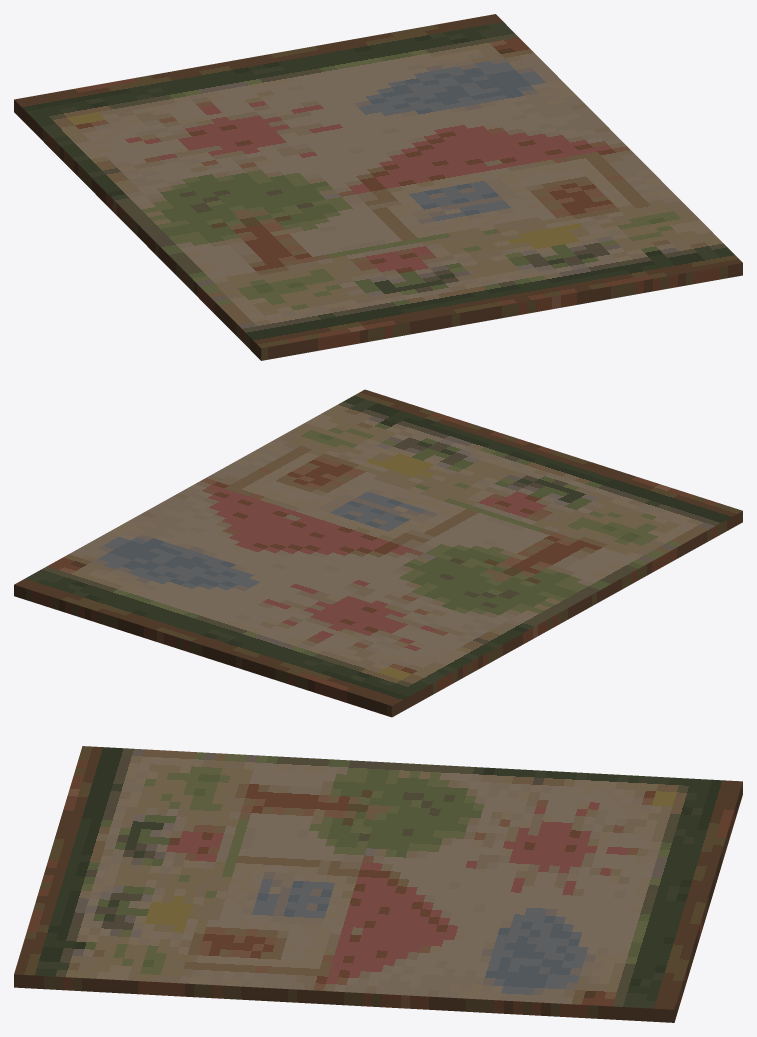
The model's file is prop_drawing_fallen-0.glb.
3 renders of one model, top to bottom at view 1: azimuth 30°, elevation 25°; view 2: azimuth 150°, elevation 25°; view 3: azimuth 270°, elevation 25°, orthographic. The views are drawn at different scales.
Visible parts, largest first — view 1: prop_drawing_fallen-0; view 2: prop_drawing_fallen-0; view 3: prop_drawing_fallen-0.
Boxes of the visible parts, <box> form: prop_drawing_fallen-0: <box>14,14,742,360</box>; prop_drawing_fallen-0: <box>14,389,742,717</box>; prop_drawing_fallen-0: <box>14,746,742,1022</box>.
Size of the model in its own units: 0.5156 by 0.012 by 0.6022.
1 material, 1 textured.
